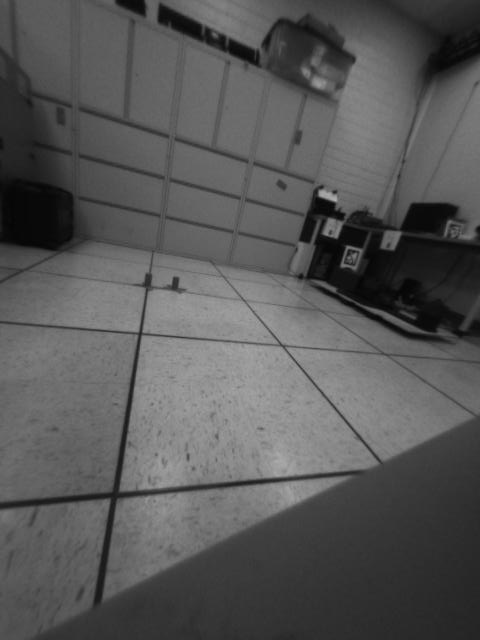X: (161, 274, 189, 297), (128, 272, 160, 292)
